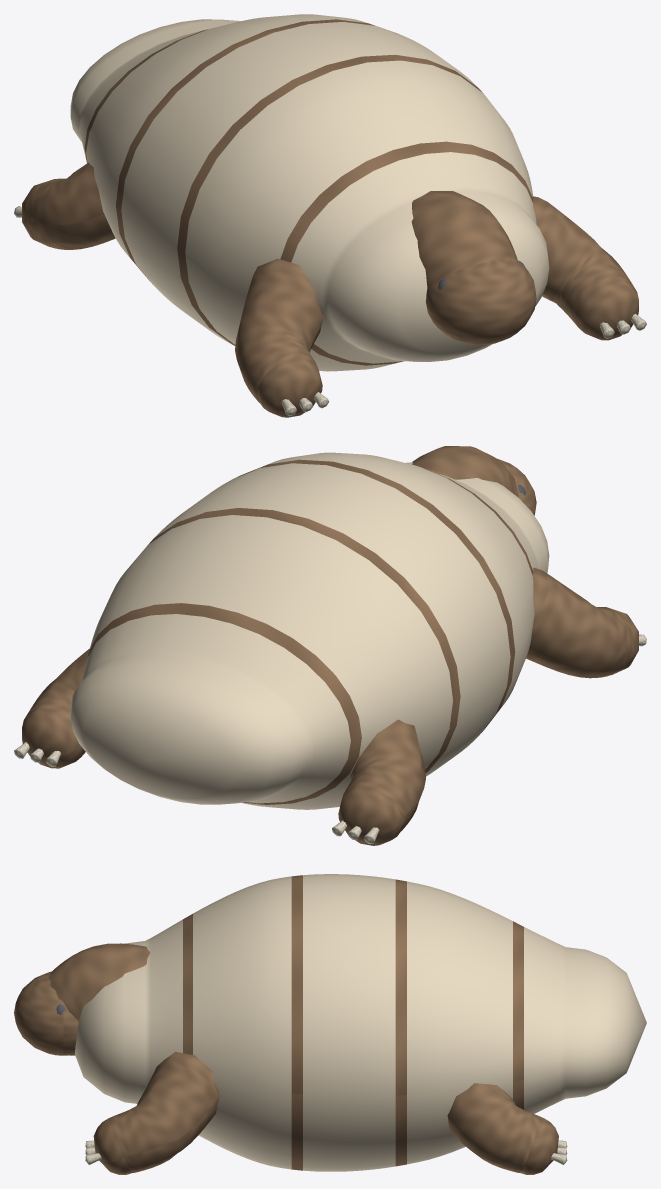
Rendered from pets-and-companions-hd-tortoise-b3abd588__28166.glb.
3 views of the same model, one above another, from view 1: azimuth 30°, elevation 25°; view 2: azimuth 150°, elevation 25°; view 3: azimuth 270°, elevation 25° (orthographic). The views are drawn at different scales.
Parts seen in each view (by area): view 1: tortoise; view 2: tortoise; view 3: tortoise.
Part boxes in pixels (<box>): tortoise: <box>14,14,646,417</box>; tortoise: <box>14,446,646,845</box>; tortoise: <box>14,874,646,1174</box>.
Bounding box in the file's own units: 0.1394 × 0.1039 × 0.2303.
Materials: 4 (2 with a texture image).
